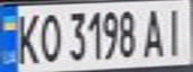1: (84, 7, 103, 61)
3: (63, 8, 87, 62)
8: (118, 6, 142, 60)
9: (103, 7, 121, 60)
A: (139, 4, 169, 58)
I: (160, 3, 190, 57)
K: (9, 9, 42, 65)
O: (33, 9, 63, 64)
